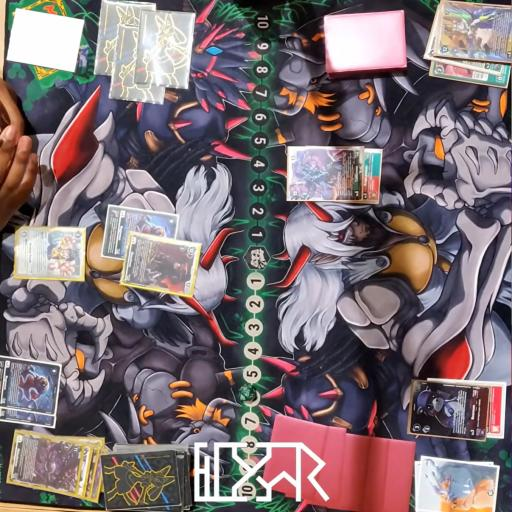card: (4, 429, 93, 501), (118, 230, 202, 302), (101, 202, 181, 268), (430, 2, 512, 66), (288, 145, 364, 205), (408, 388, 490, 439), (13, 226, 86, 281), (0, 352, 60, 415), (423, 45, 504, 77), (425, 63, 512, 89), (362, 148, 388, 208), (0, 406, 60, 429), (488, 380, 508, 442)
